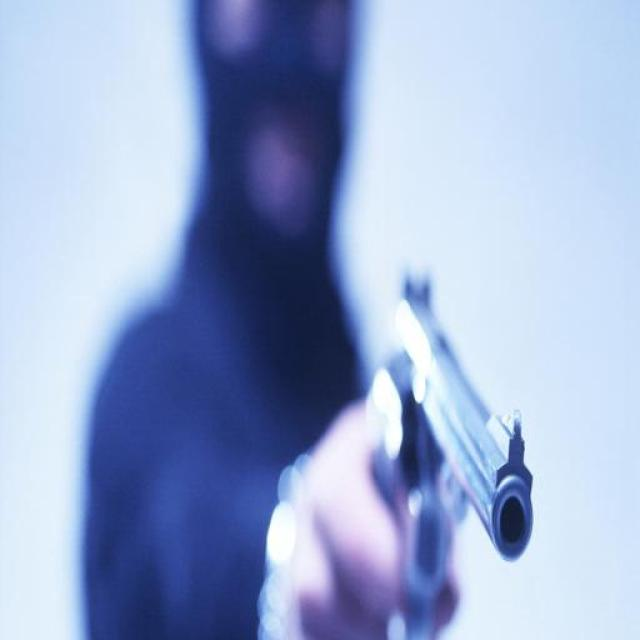pistol: (368, 259, 536, 639)
